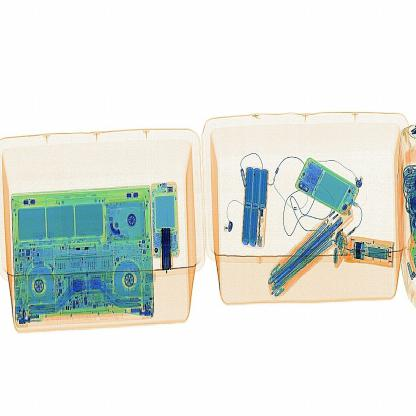scissors: (154, 220, 172, 277)
